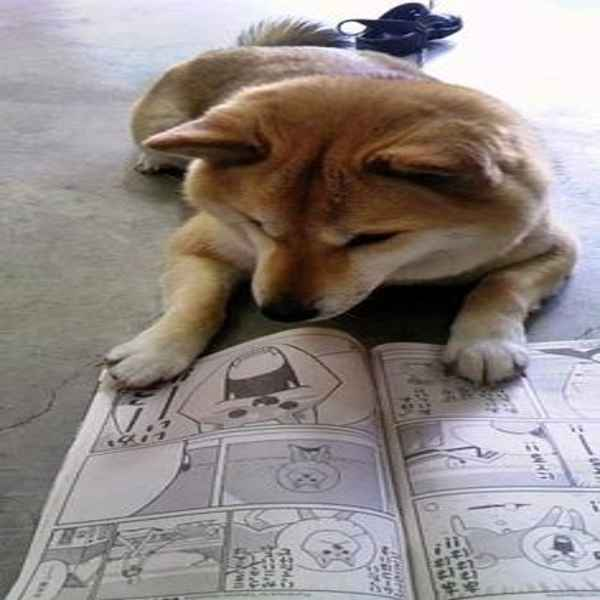doge: (168, 81, 512, 328)
